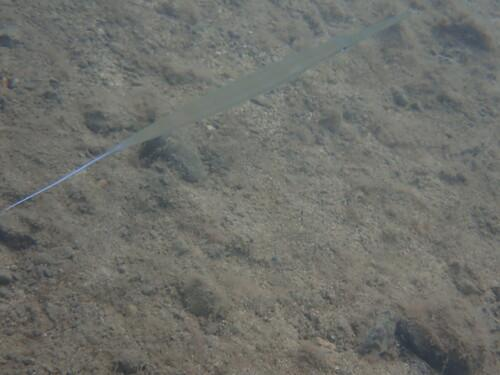Fistularia commersonii: (22, 0, 500, 224)
